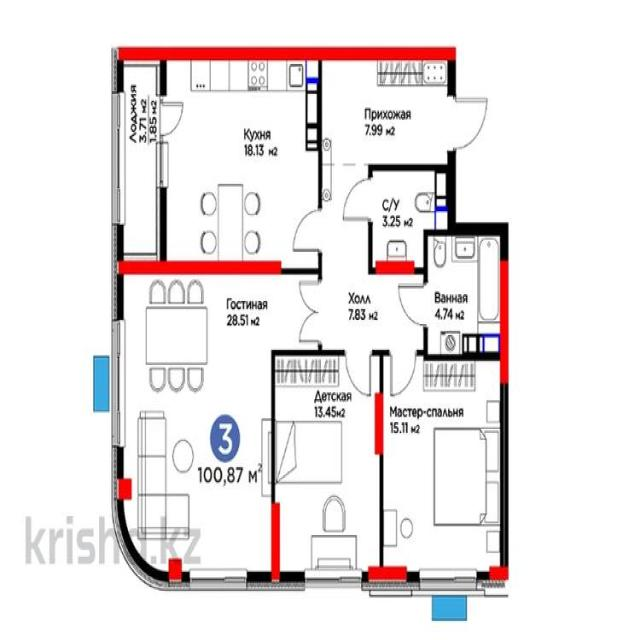balcony: (120, 52, 168, 252)
bathroom: (429, 233, 501, 354)
hallway: (322, 55, 452, 164), (278, 273, 424, 350), (372, 170, 449, 269)
kitchen: (164, 57, 322, 268)
living_room: (120, 276, 274, 576), (383, 356, 504, 572), (276, 350, 379, 572)
